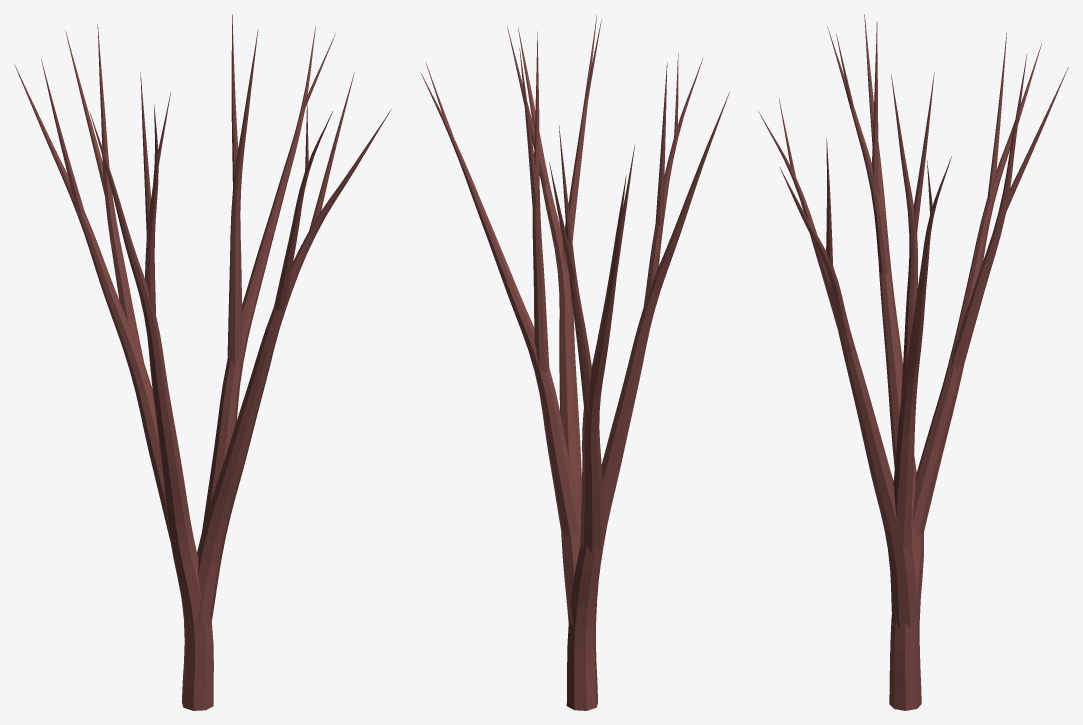
Rendered from treetrunk.gltf.
3 renders of one model, left to right at view 1: azimuth 30°, elevation 25°; view 2: azimuth 150°, elevation 25°; view 3: azimuth 270°, elevation 25°, orthographic.
Visible parts, largest first — view 1: tree.001; view 2: tree.001; view 3: tree.001.
Boxes of the visible parts, x1,y1,x2,y2 form: tree.001: (14, 14, 391, 710); tree.001: (420, 15, 729, 710); tree.001: (758, 14, 1068, 710).
Size of the model in its own units: 4.02 by 9.23 by 3.96.
